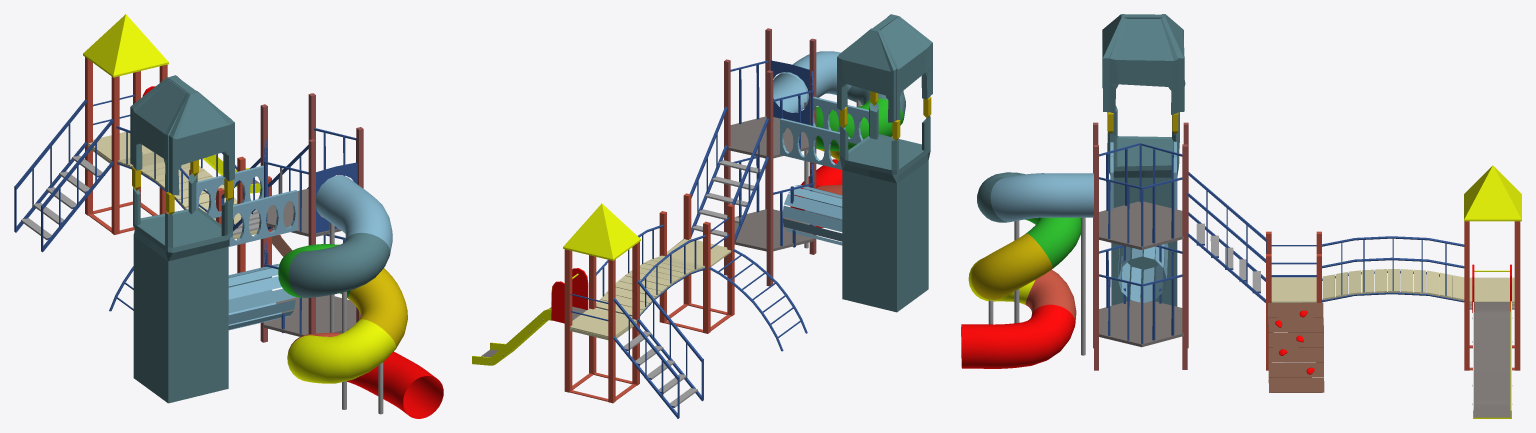
File: MainPlayGround 1.fbx
3 renders of one model, left to right at view 1: azimuth 30°, elevation 25°; view 2: azimuth 150°, elevation 25°; view 3: azimuth 270°, elevation 25°, orthographic. The views are drawn at different scales.
Parts seen in each view (by area): view 1: Cube.006, Curve, Object004, Object002, Cylinder, Cube.002, Cube.001, Object003, Cube.004, AAAA, Object002.001, Plane (+8 smaller); view 2: Cube.006, Object004, Curve, AAAA, Object003, Object002, Cylinder, Cube.001, Object002.001, Object001, Cube.002, Cube.003 (+8 smaller); view 3: Curve, Cube.006, Object004, Object003, Object001, Cube.001, Cube.002, Object002.001, AAAA, Cylinder, Cube, Cube.005 (+8 smaller).
Boxes of the visible parts, x1,y1,x2,y2 form: Cube.006: [130, 75, 234, 403]; Curve: [278, 175, 443, 418]; Object004: [83, 14, 168, 234]; Object002: [14, 99, 113, 252]; Cylinder: [228, 264, 295, 330]; Cube.002: [263, 234, 356, 336]; Cube.001: [264, 128, 357, 236]; Object003: [116, 126, 237, 211]; Cube.004: [308, 139, 315, 334]; AAAA: [189, 156, 271, 277]; Object002.001: [221, 145, 308, 235]; Plane: [316, 162, 357, 233]; Cube.006: [837, 14, 932, 312]; Object004: [563, 203, 640, 403]; Curve: [773, 51, 905, 228]; AAAA: [659, 193, 734, 333]; Object003: [596, 224, 705, 315]; Object002: [613, 280, 703, 418]; Cylinder: [782, 185, 842, 245]; Cube.001: [728, 60, 814, 158]; Object002.001: [689, 106, 768, 243]; Object001: [472, 268, 588, 365]; Cube.002: [733, 156, 814, 251]; Cube.003: [766, 70, 773, 286]; Curve: [961, 172, 1093, 368]; Cube.006: [1102, 14, 1185, 306]; Object004: [1464, 165, 1521, 370]; Object003: [1322, 236, 1464, 302]; Object001: [1472, 264, 1512, 418]; Cube.001: [1099, 143, 1183, 249]; Cube.002: [1099, 245, 1183, 347]; Object002.001: [1187, 172, 1266, 302]; AAAA: [1266, 231, 1321, 370]; Cylinder: [1118, 243, 1168, 302]; Cube: [1182, 144, 1187, 369]; Cube.005: [1094, 145, 1098, 370].
Bounding box in the file's own units: 487 × 475 × 850.
1 material, 1 textured.
